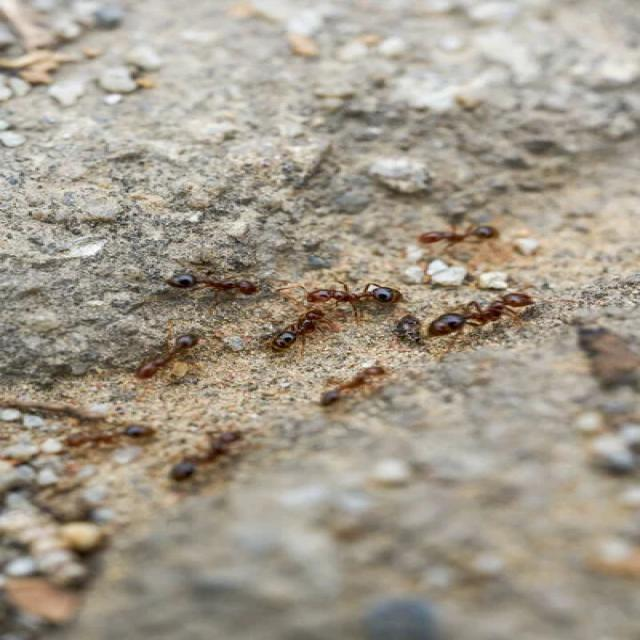Minor: (426, 289, 534, 350), (296, 278, 405, 316), (165, 267, 267, 305), (266, 310, 331, 356)
